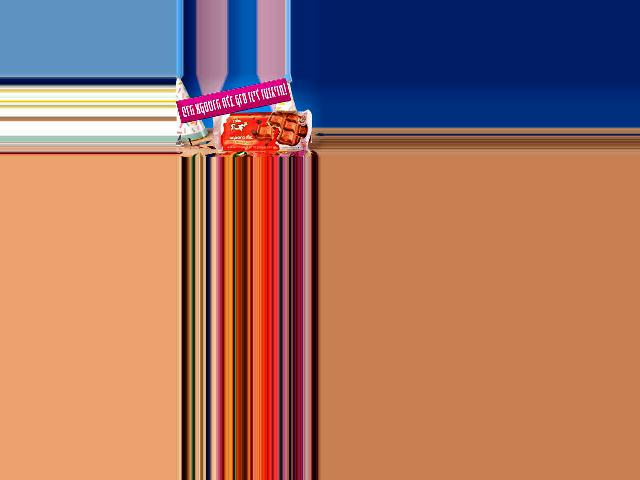chocolate: (210, 108, 314, 153)
